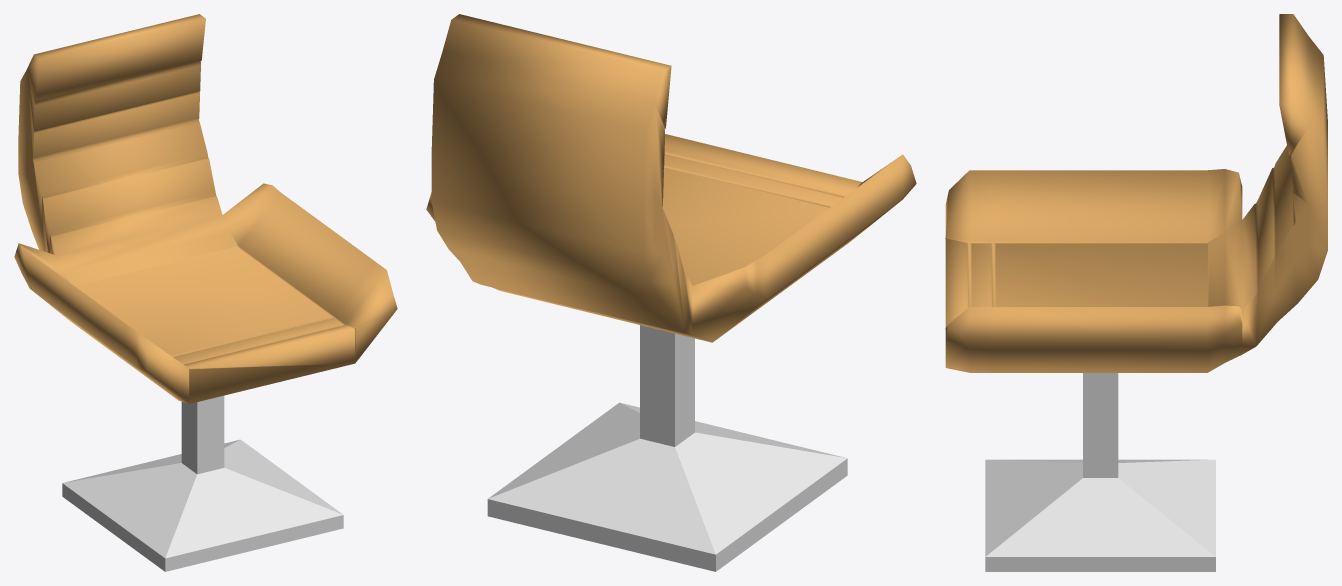
Rendered from chair.fbx.
3 views of the same model, side by side, from view 1: azimuth 30°, elevation 25°; view 2: azimuth 150°, elevation 25°; view 3: azimuth 270°, elevation 25° (orthographic). The views are drawn at different scales.
Visible parts, largest first — view 1: chair; view 2: chair; view 3: chair.
Part boxes in pixels (bbox=[...]): chair: bbox=[14, 14, 397, 571]; chair: bbox=[426, 14, 916, 571]; chair: bbox=[945, 14, 1327, 571].
Size of the model in its own units: 78.18 by 124 by 92.52.
